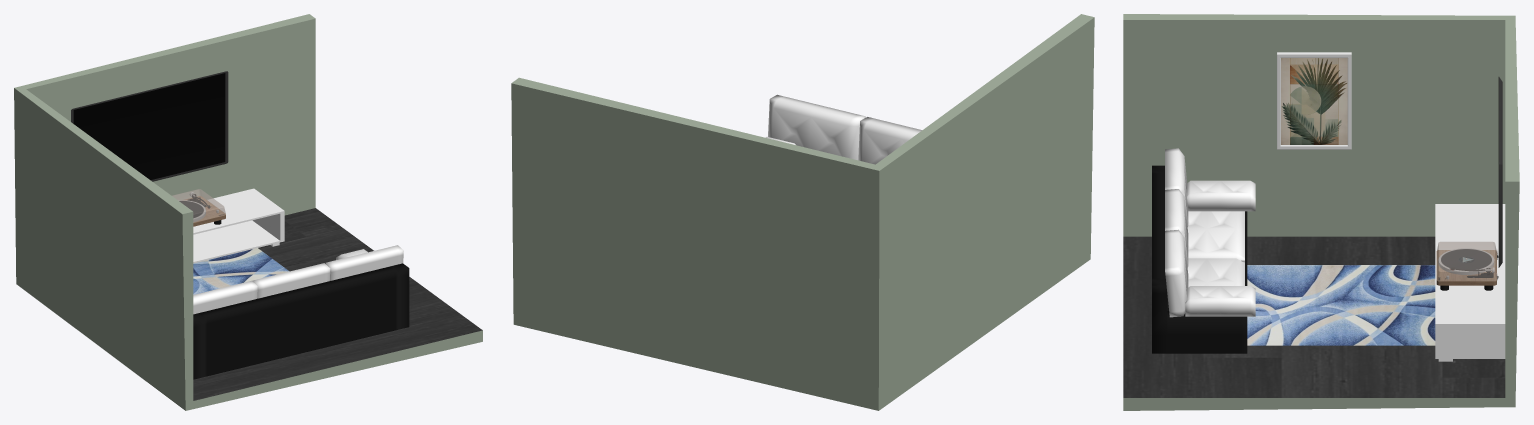
File: Cenario2.gltf
3 renders of one model, left to right at view 1: azimuth 30°, elevation 25°; view 2: azimuth 150°, elevation 25°; view 3: azimuth 270°, elevation 25°, orthographic. The views are drawn at different scales.
Visible parts, largest first — view 1: walls, sofa, tv, table, Plane.009, Plane.006, Plane.005, Plane.004, DustCover; view 2: walls, Plane.006, Plane.005; view 3: walls, Plane.009, table, Plane.001, sofa, Plane.002, DustCover, Plane.007, Plane.008, Plane.006, Plane.003, Plane.005 (+5 smaller).
Boxes of the visible parts, left/top/right/bottom form: walls: left=14, top=14, right=482, bottom=410; sofa: left=193, top=263, right=409, bottom=379; tv: left=71, top=71, right=228, bottom=181; table: left=193, top=188, right=284, bottom=263; Plane.009: left=193, top=248, right=289, bottom=294; Plane.006: left=325, top=245, right=403, bottom=280; Plane.005: left=252, top=263, right=330, bottom=298; Plane.004: left=193, top=280, right=257, bottom=314; DustCover: left=172, top=189, right=225, bottom=222; walls: left=511, top=14, right=1094, bottom=410; Plane.006: left=768, top=94, right=865, bottom=160; Plane.005: left=858, top=117, right=921, bottom=164; walls: left=1123, top=14, right=1519, bottom=410; Plane.009: left=1247, top=265, right=1435, bottom=345; table: left=1435, top=204, right=1505, bottom=358; Plane.001: left=1277, top=52, right=1351, bottom=149; sofa: left=1152, top=165, right=1247, bottom=353; Plane.002: left=1187, top=211, right=1244, bottom=260; DustCover: left=1437, top=242, right=1497, bottom=280; Plane.007: left=1186, top=180, right=1255, bottom=211; Plane.008: left=1185, top=286, right=1255, bottom=316; Plane.006: left=1165, top=229, right=1188, bottom=317; Plane.003: left=1187, top=258, right=1244, bottom=287; Plane.005: left=1165, top=189, right=1188, bottom=266.
Size of the model in its own units: 8.3 by 5.3 by 8.3.
28 materials, 11 textured.
